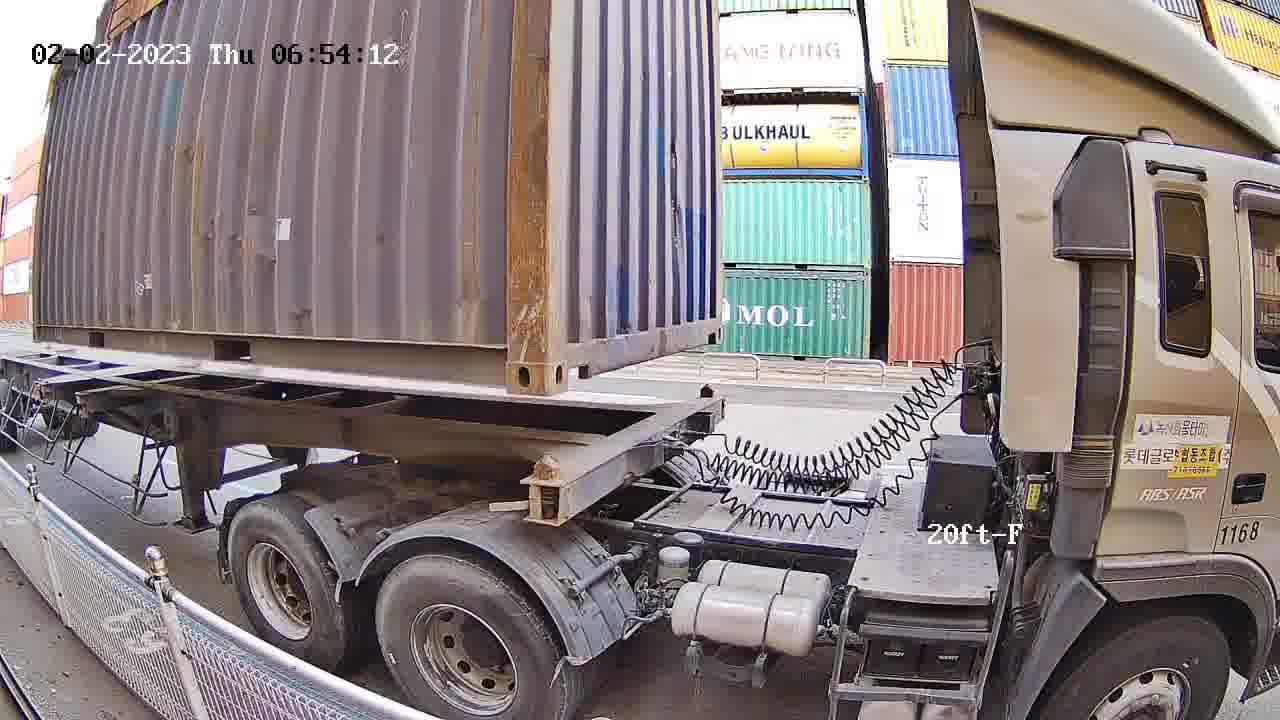Chassis: (520, 393, 725, 523)
Cone: (526, 454, 562, 524), (695, 384, 718, 397)
Hole_L: (544, 319, 595, 395)
Hole_R: (474, 320, 546, 397), (701, 309, 723, 346)
Tire: (374, 554, 564, 718), (227, 505, 341, 671)
